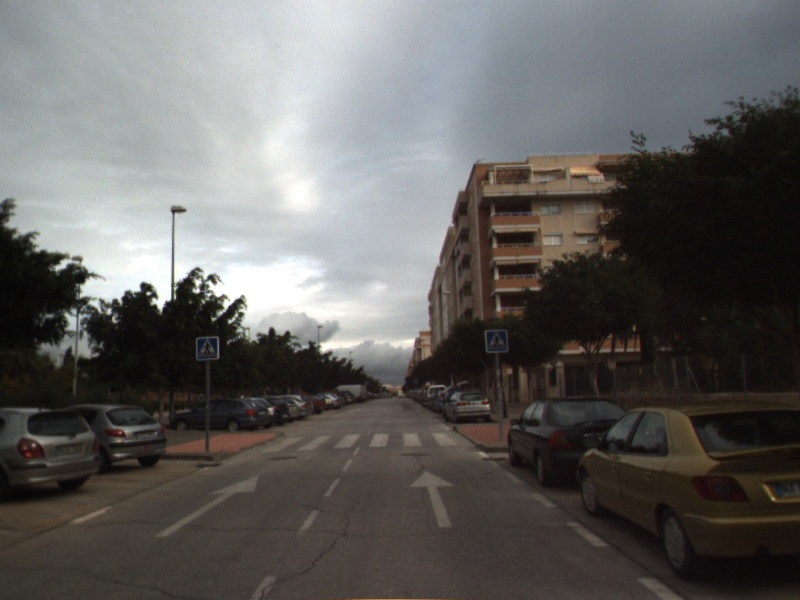STRAIGHT: (153, 474, 260, 539), (407, 468, 457, 530)
